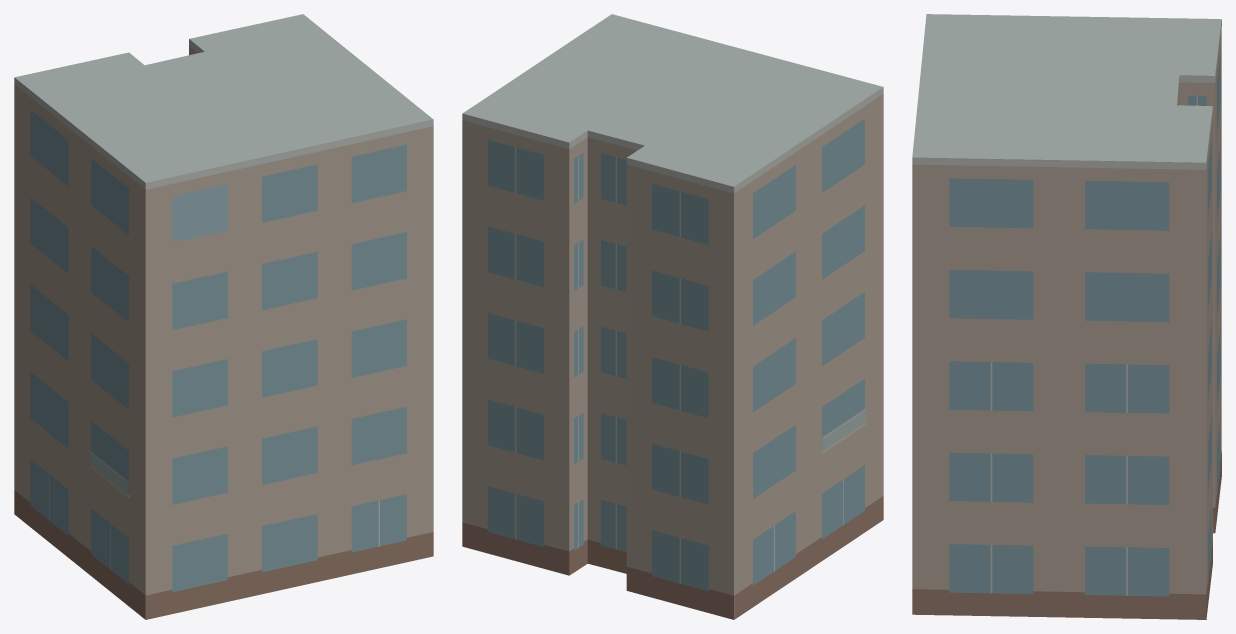
File: survey-upis-33045560.glb
3 views of the same model, side by side, from view 1: azimuth 30°, elevation 25°; view 2: azimuth 150°, elevation 25°; view 3: azimuth 270°, elevation 25° (orthographic). The views are drawn at different scales.
Visible parts, largest first — view 1: survey-upis-33045560.tmp; view 2: survey-upis-33045560.tmp; view 3: survey-upis-33045560.tmp.
Boxes of the visible parts, x1=… form: survey-upis-33045560.tmp: x1=14, y1=14, x2=433, y2=619; survey-upis-33045560.tmp: x1=462, y1=14, x2=883, y2=619; survey-upis-33045560.tmp: x1=912, y1=14, x2=1221, y2=619.
Bounding box in the file's own units: 10.98 × 15.72 × 9.66.
